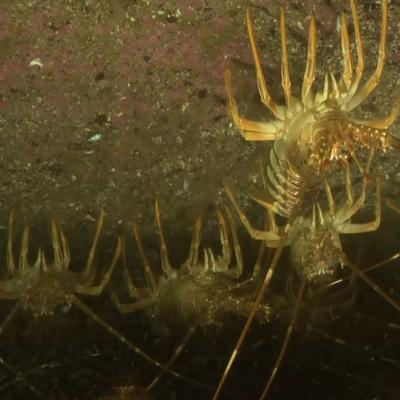lobster: (261, 47, 361, 202), (161, 226, 238, 330), (13, 235, 75, 327), (289, 206, 345, 285)
